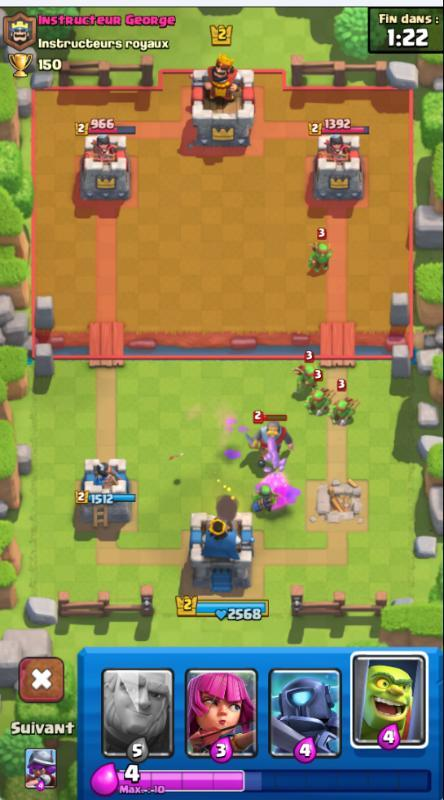enemy_knight: (242, 410, 296, 465)
enemy_spear_goblins: (304, 228, 335, 273), (328, 383, 361, 424), (290, 351, 323, 385), (303, 382, 334, 414)
player_spear_goblins: (249, 475, 281, 515)
